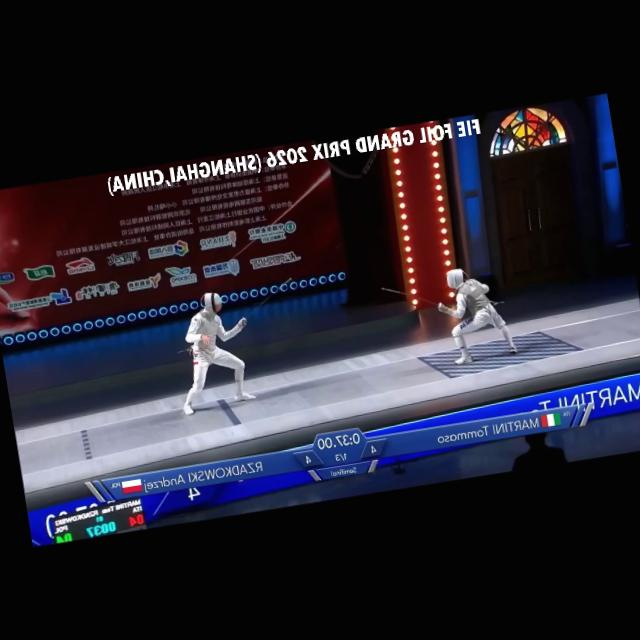blade: (234, 272, 304, 333), (378, 274, 448, 324)
